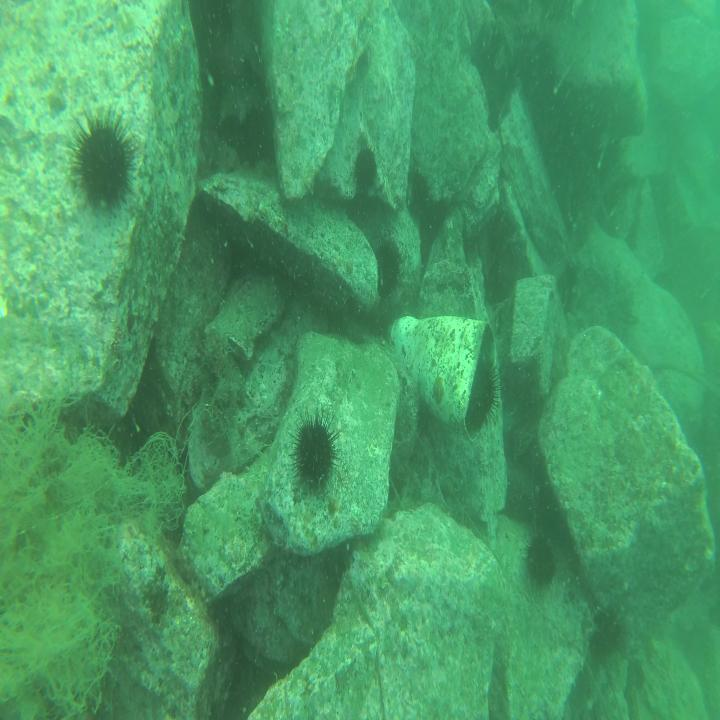echinus: (71, 101, 136, 215), (290, 406, 337, 494), (472, 353, 501, 429), (528, 529, 558, 596), (371, 238, 406, 293), (354, 143, 380, 196)
